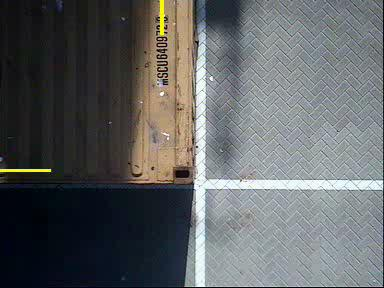groundmarker_2: (187, 157, 221, 226)
